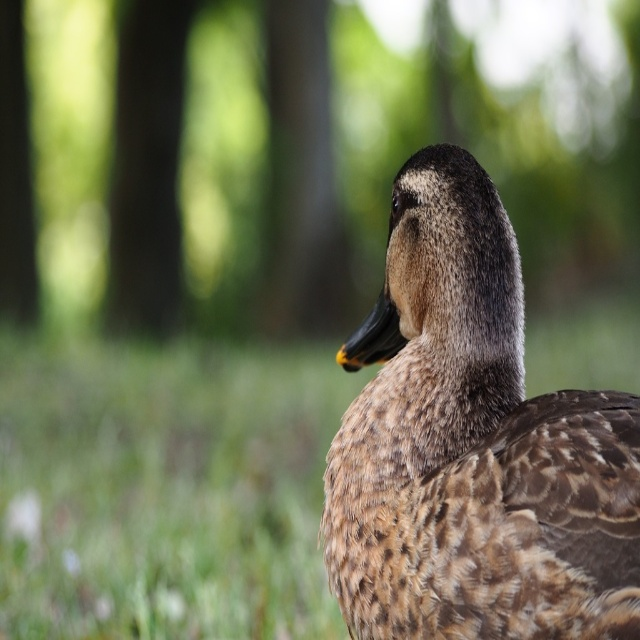Duck: (317, 141, 640, 639)
